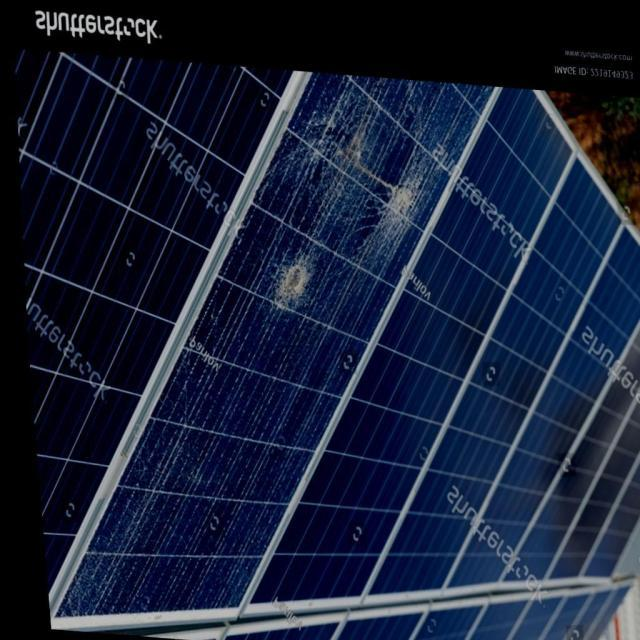cracked: (49, 51, 480, 617)
